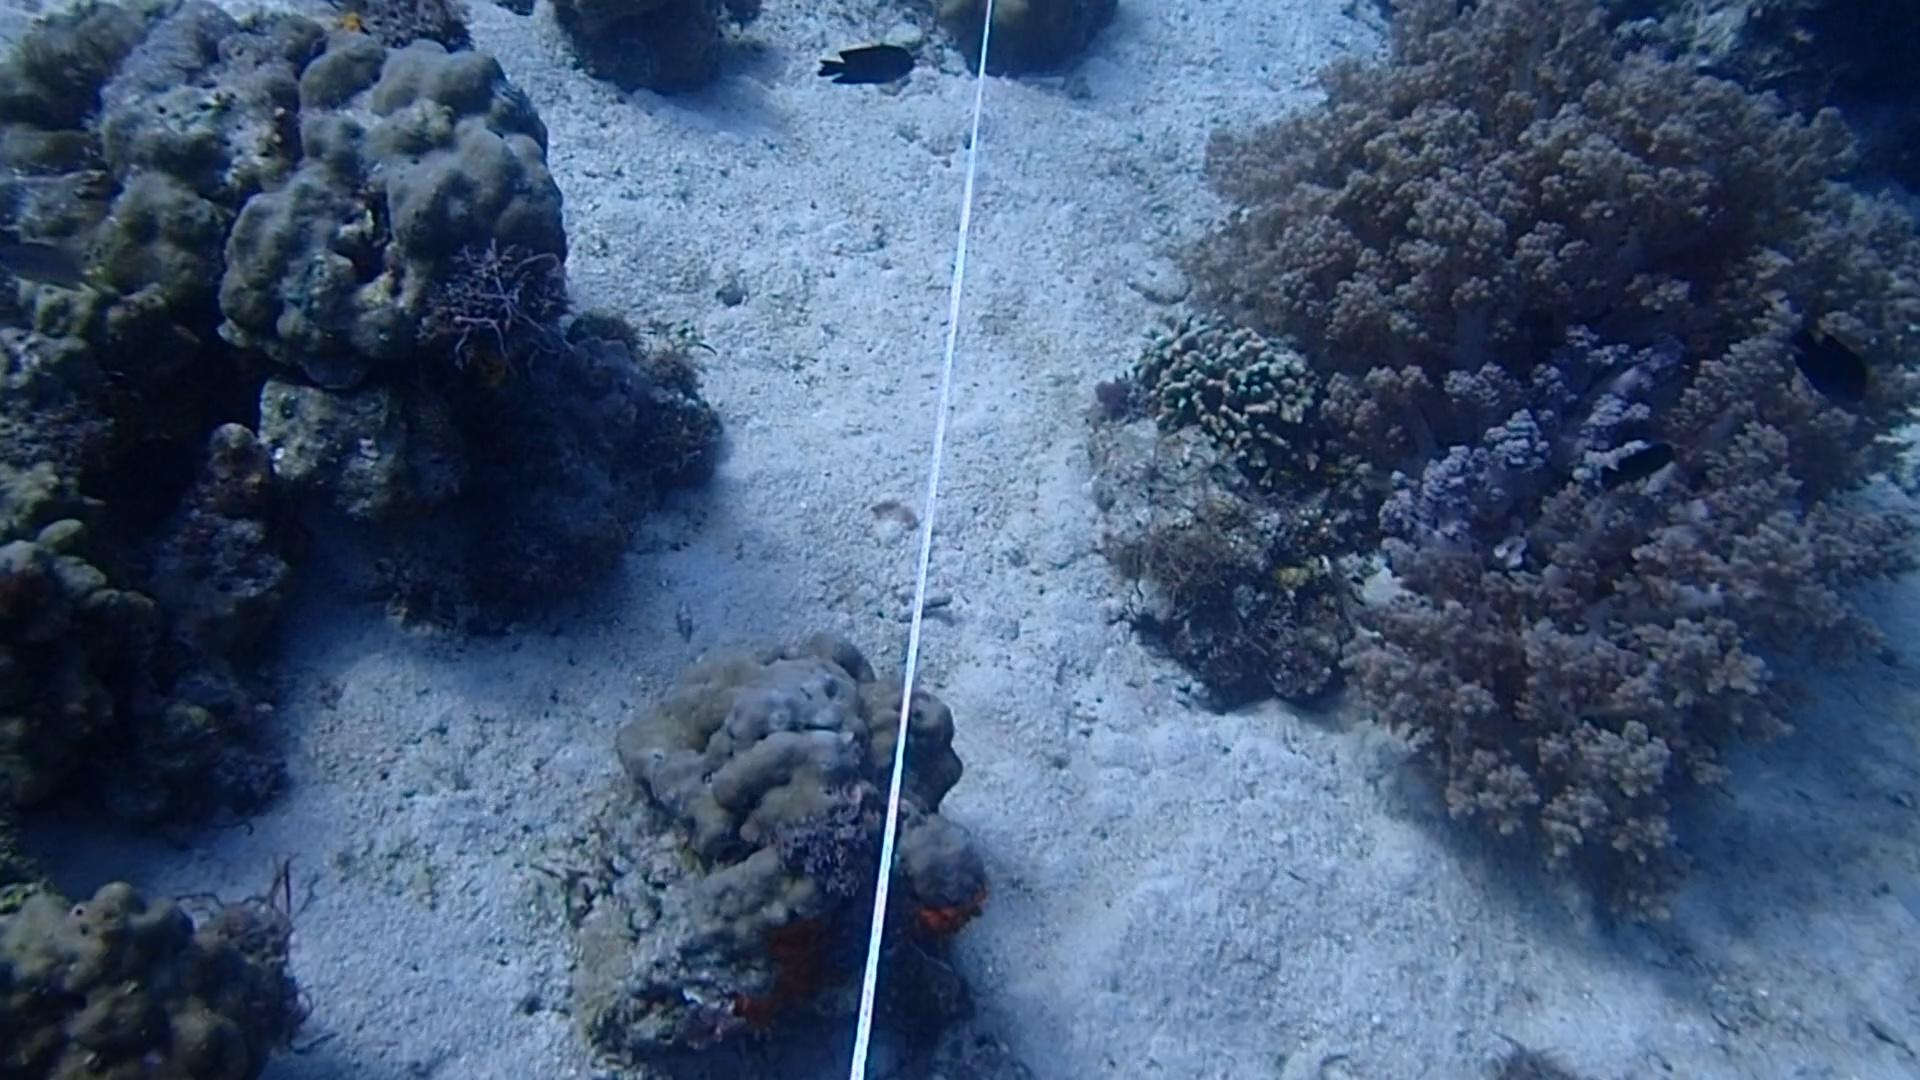Dark Fish: (1787, 327, 1863, 419), (810, 37, 919, 91), (1582, 436, 1671, 500)
